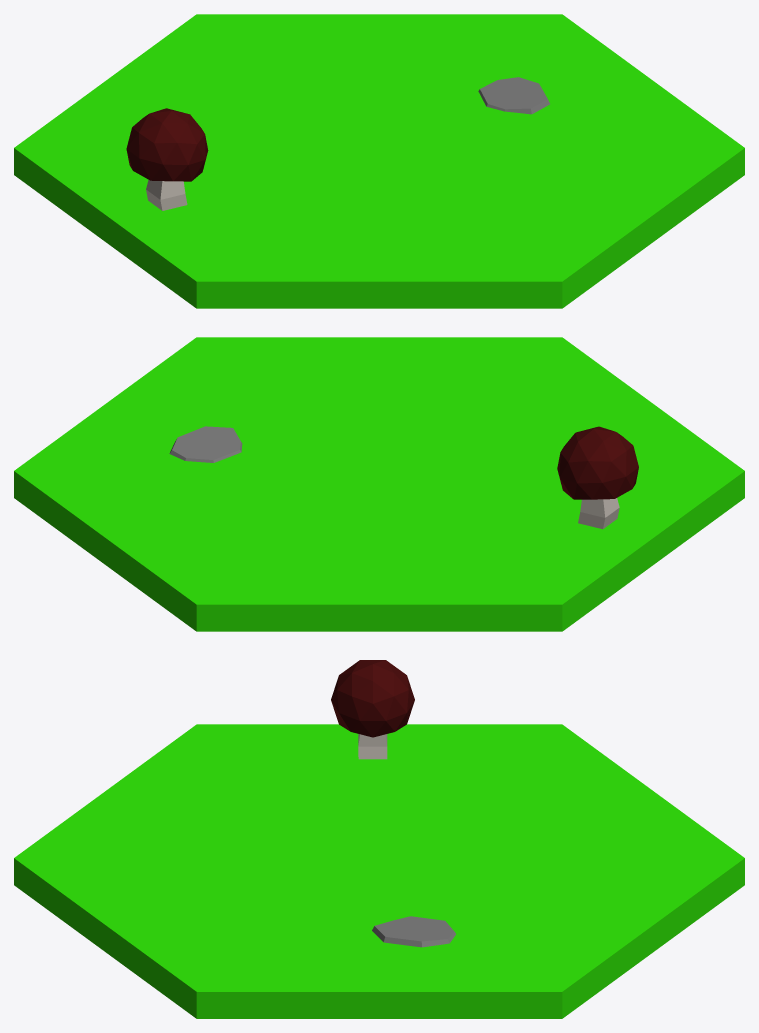
File: green4.glb
3 renders of one model, top to bottom at view 1: azimuth 30°, elevation 25°; view 2: azimuth 150°, elevation 25°; view 3: azimuth 270°, elevation 25°, orthographic.
Visible parts, largest first — view 1: Cylinder.030; view 2: Cylinder.030; view 3: Cylinder.030.
Part boxes in pixels (x1=…): Cylinder.030: x1=14, y1=14, x2=744, y2=308; Cylinder.030: x1=14, y1=337, x2=744, y2=631; Cylinder.030: x1=14, y1=660, x2=744, y2=1018.
Size of the model in its own units: 0.9458 by 0.1947 by 1.09.
